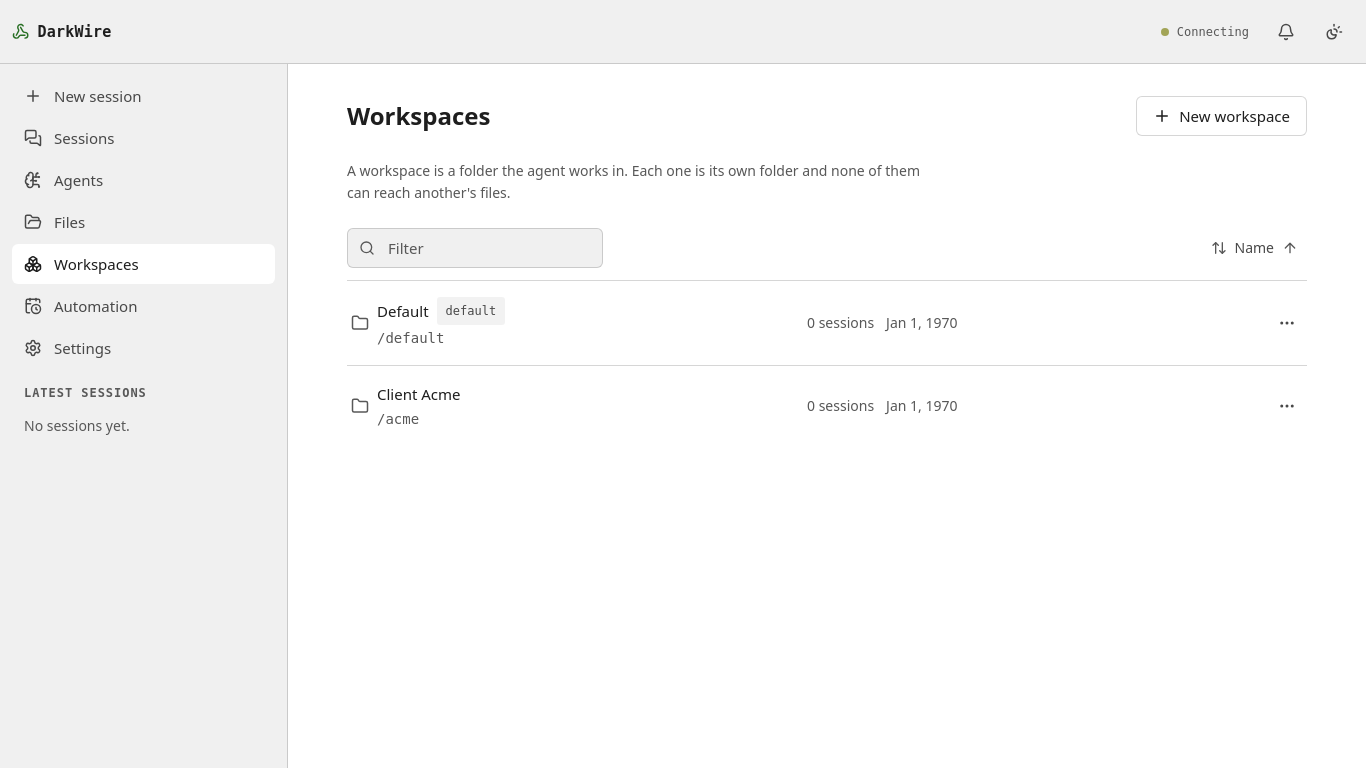
the workspaces page › opens the editor from the row, rather than renaming in place
Click the button named "Actions for Client Acme".
click(1287, 406)  # box [1267,386,1307,426]
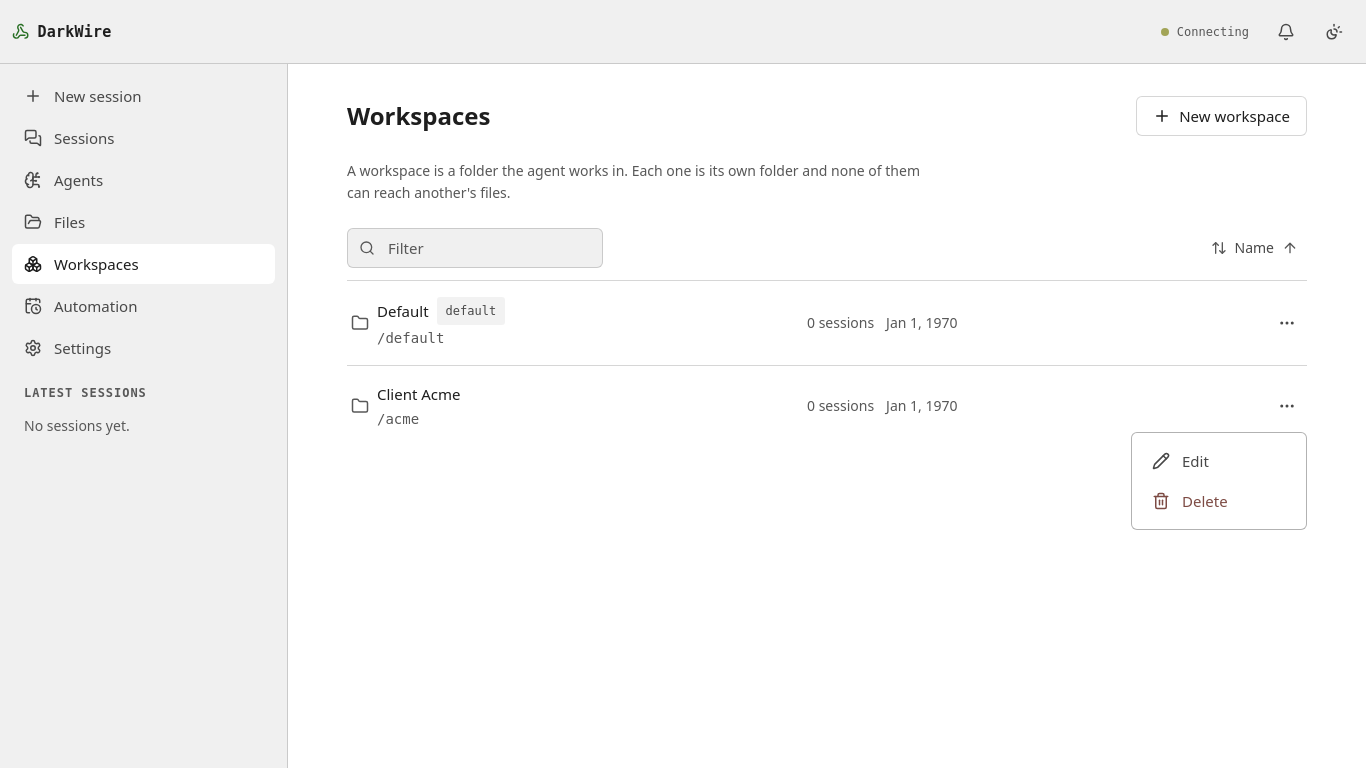
Now the menu item "Edit" is shown
Click the menu item "Edit".
click(1180, 461)  # box [1152,451,1209,471]
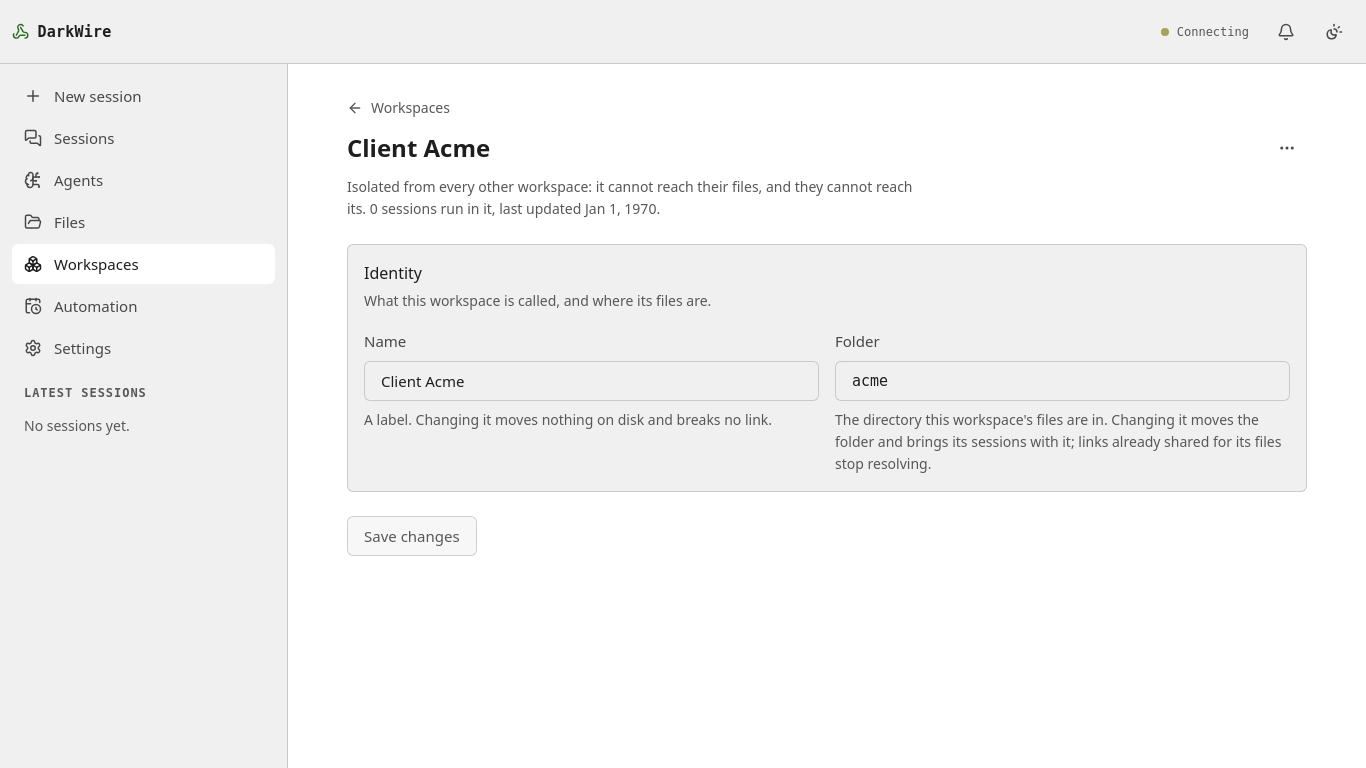
Now the heading "Client Acme" is shown, box [347,132,490,164]
